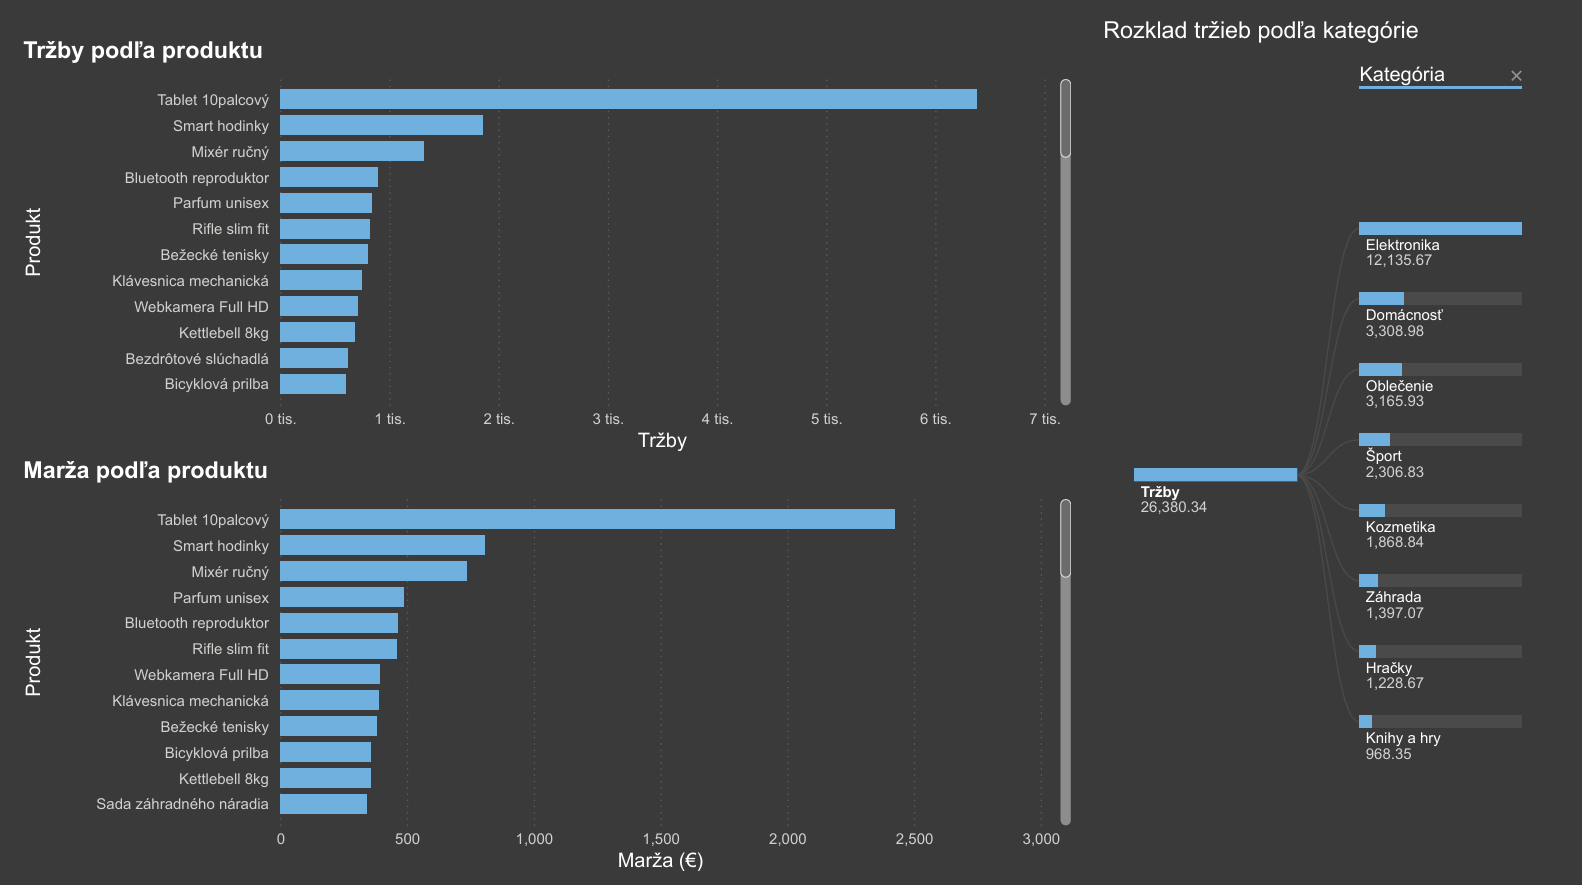

The page's visual inventory and layout, read from the dashboard file:
{"tool":"powerbi","page":{"name":"Analýza produktov","canvas":[1280,720],"ordinal":1},"visuals":[{"type":"clusteredBarChart","title":"Tržby podľa produktu","fields":{"Y":["Orders.Total Revenue"],"Category":["Products.ProductName"]},"box":[16,32,848,336],"z":0},{"type":"clusteredBarChart","title":"Marža podľa produktu","fields":{"Category":["Products.ProductName"],"Y":["Sum(Order Details.MarginEUR (€))"]},"box":[16,368,848,336],"z":1000},{"type":"decompositionTreeVisual","title":"Rozklad tržieb podľa kategórie","fields":{"ExplainBy":["Categories.CategoryName"],"Analyze":["Orders.Total Revenue"]},"box":[880,16,400,688],"z":2000}]}

Visuals, with their boxes in screenshot pixels (x1, y1, x2, y2), scaled from the page's 1280x720 canvas onto the 1582x885 screenshot:
"Tržby podľa produktu" clusteredBarChart: box(20, 39, 1068, 452)
"Marža podľa produktu" clusteredBarChart: box(20, 452, 1068, 865)
"Rozklad tržieb podľa kategórie" decompositionTreeVisual: box(1088, 20, 1581, 865)
